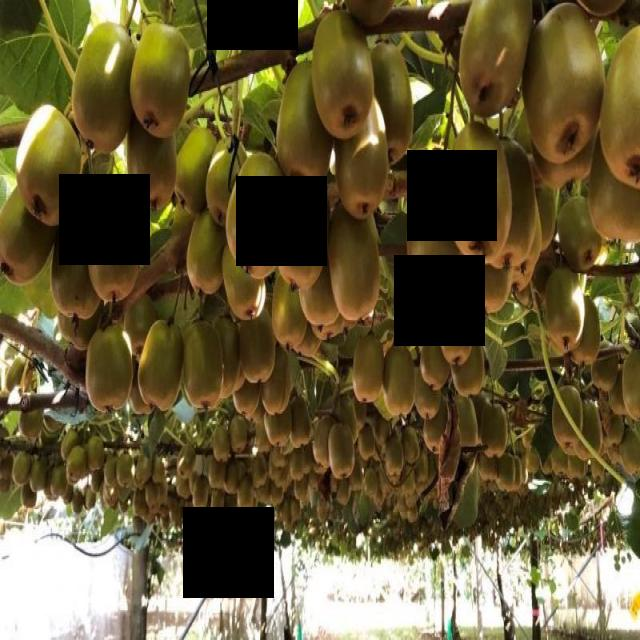kiwi: (522, 1, 606, 175), (458, 1, 537, 130), (447, 129, 517, 267), (15, 101, 85, 236), (225, 149, 293, 284), (72, 21, 135, 161), (310, 10, 376, 142), (276, 57, 336, 198), (335, 92, 394, 226), (409, 152, 463, 297), (363, 38, 417, 172), (602, 24, 640, 203), (88, 185, 143, 307), (131, 23, 189, 138), (49, 207, 103, 327), (277, 179, 331, 293), (331, 206, 384, 321), (1, 184, 55, 292), (495, 138, 537, 272), (586, 149, 640, 247), (137, 317, 189, 413), (86, 326, 138, 417), (123, 128, 180, 210), (181, 318, 226, 419), (555, 190, 605, 277), (205, 134, 251, 226), (176, 120, 217, 220), (453, 257, 511, 321), (543, 266, 585, 354), (188, 209, 228, 300), (237, 311, 278, 389), (271, 279, 310, 351), (451, 322, 486, 402), (568, 293, 603, 371), (55, 297, 105, 351), (550, 381, 586, 451), (384, 341, 416, 419), (262, 341, 294, 418), (218, 314, 244, 408), (353, 337, 386, 407), (123, 293, 161, 351), (423, 315, 452, 391), (573, 398, 603, 465), (299, 283, 342, 329), (438, 293, 464, 367), (344, 1, 399, 35), (480, 401, 511, 461), (534, 182, 560, 252), (424, 401, 455, 459), (329, 424, 357, 482), (621, 343, 640, 427), (416, 366, 444, 422), (127, 374, 157, 424), (590, 347, 619, 394), (314, 417, 339, 471), (616, 423, 640, 479), (263, 408, 293, 450), (291, 398, 313, 450), (234, 382, 263, 418), (496, 449, 517, 496), (509, 262, 537, 294), (19, 407, 45, 441), (385, 437, 406, 478), (608, 385, 631, 422), (477, 449, 500, 485), (68, 445, 88, 486), (551, 445, 573, 482), (566, 451, 588, 488), (403, 425, 423, 465), (212, 426, 233, 463), (13, 448, 32, 488), (117, 451, 136, 491), (177, 443, 198, 479), (605, 415, 627, 449), (88, 435, 108, 472), (51, 463, 71, 500), (359, 422, 377, 462), (30, 458, 50, 494), (238, 476, 256, 516), (251, 454, 269, 491), (231, 415, 249, 451), (289, 446, 307, 482), (224, 493, 241, 530), (374, 411, 392, 445), (588, 452, 606, 486), (104, 453, 121, 489), (210, 459, 228, 493), (226, 458, 242, 496), (195, 475, 211, 513), (135, 454, 153, 486), (209, 491, 227, 523), (63, 430, 80, 462), (22, 482, 40, 512), (134, 489, 151, 519), (293, 476, 311, 503), (540, 446, 555, 478), (153, 456, 168, 488), (364, 466, 380, 496), (176, 475, 193, 503), (270, 449, 289, 473), (116, 483, 135, 506), (90, 469, 106, 495), (72, 488, 85, 518), (451, 360, 461, 397), (147, 483, 161, 509), (1, 456, 16, 480), (86, 486, 99, 513), (105, 484, 120, 506), (64, 483, 74, 505)
